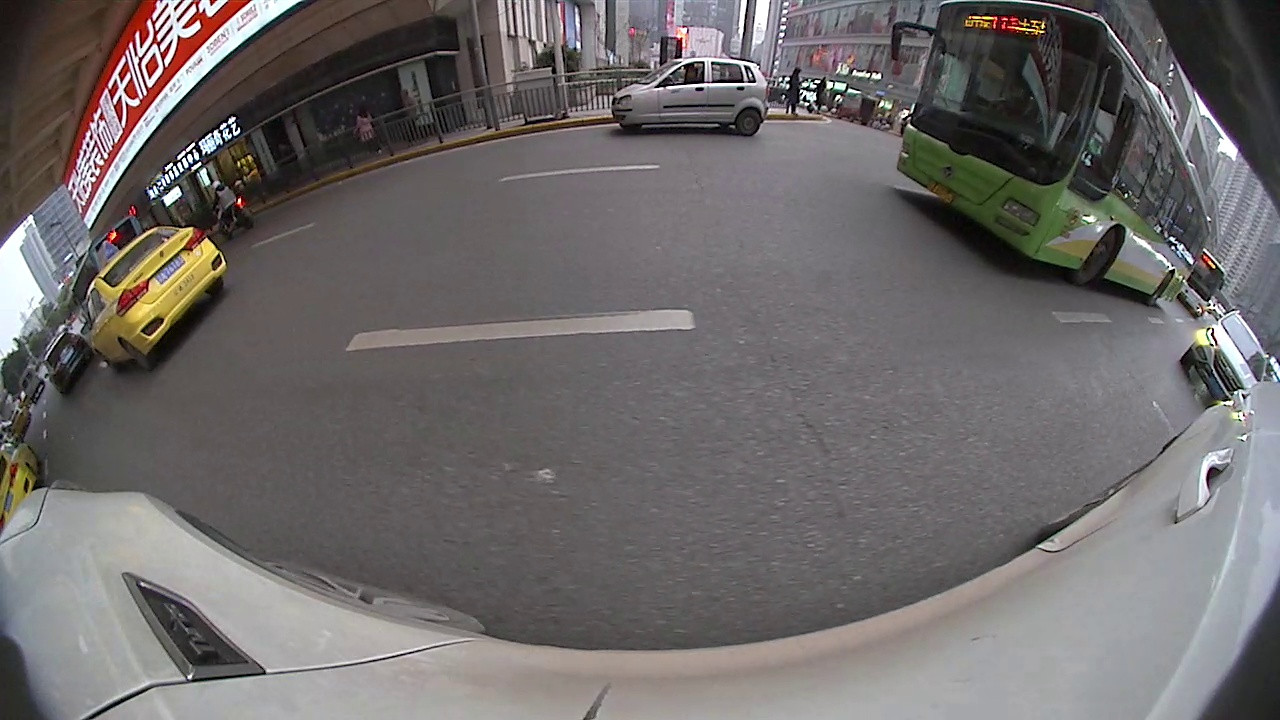bus: (896, 1, 1212, 301), (1173, 251, 1229, 318)
car: (81, 227, 231, 378), (608, 61, 768, 138), (1179, 309, 1274, 410), (41, 328, 96, 394)
front: (1083, 223, 1124, 286)
rear: (113, 340, 154, 371), (736, 110, 764, 134)
rider: (203, 179, 254, 237)
